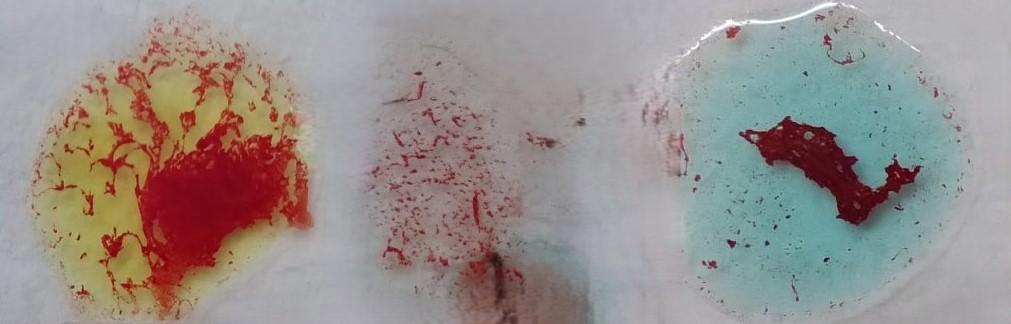A: (679, 14, 955, 315)
B: (43, 16, 296, 324)
D: (358, 56, 538, 321)
